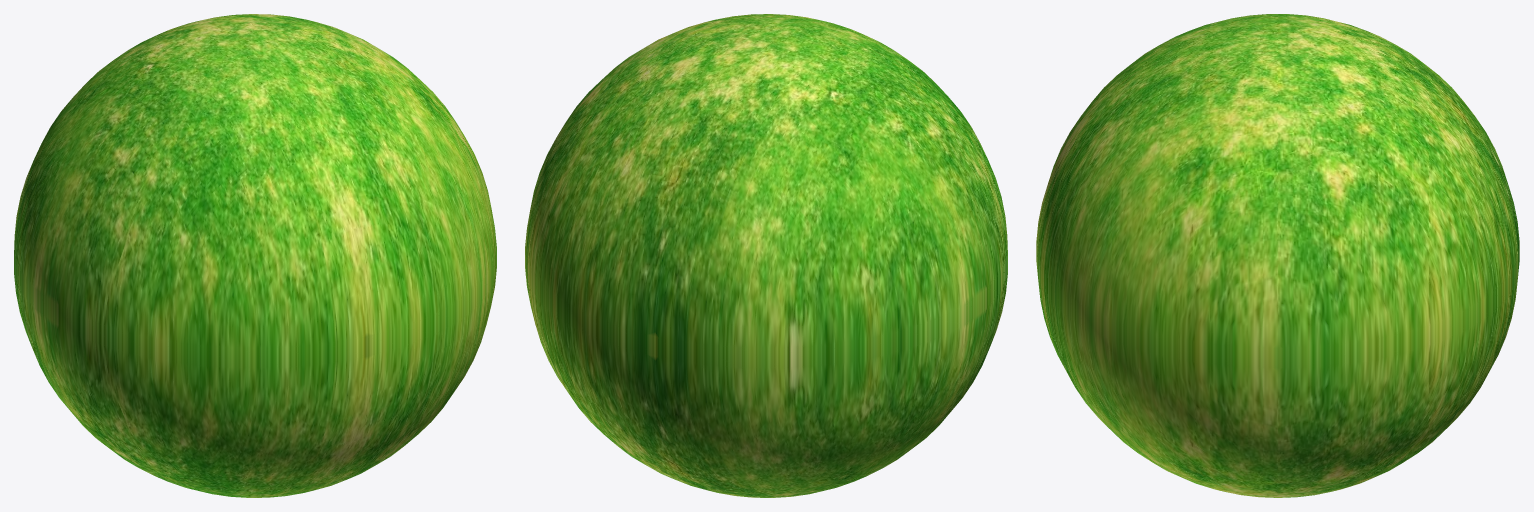
Rendered from Stage.fbx.
3 views of the same model, side by side, from view 1: azimuth 30°, elevation 25°; view 2: azimuth 150°, elevation 25°; view 3: azimuth 270°, elevation 25° (orthographic).
Visible parts, largest first — view 1: pSphere1; view 2: pSphere1; view 3: pSphere1.
Part boxes in pixels (x1=…): pSphere1: x1=14, y1=14, x2=496, y2=497; pSphere1: x1=525, y1=14, x2=1007, y2=497; pSphere1: x1=1036, y1=14, x2=1519, y2=497.
Bounding box in the file's own units: 28.85 × 28.94 × 28.88.
1 material, 1 textured.
